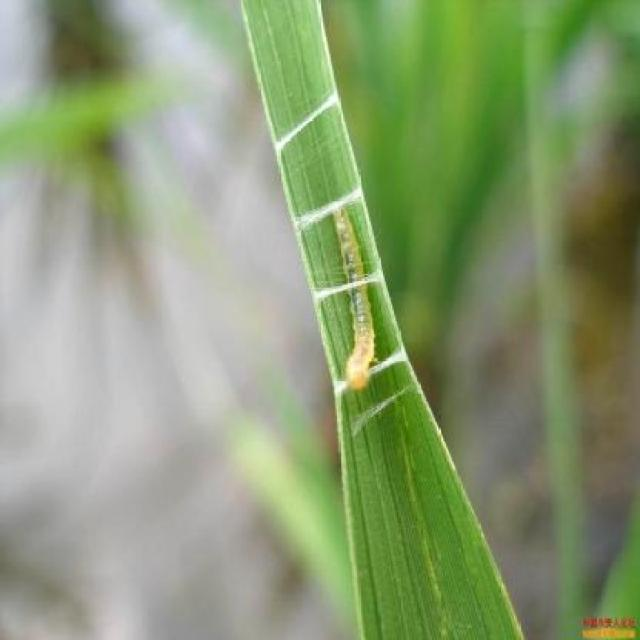leaf-folder: (316, 191, 384, 403)
